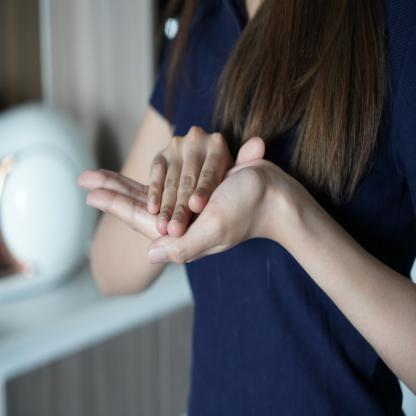Love: (69, 119, 302, 270)
